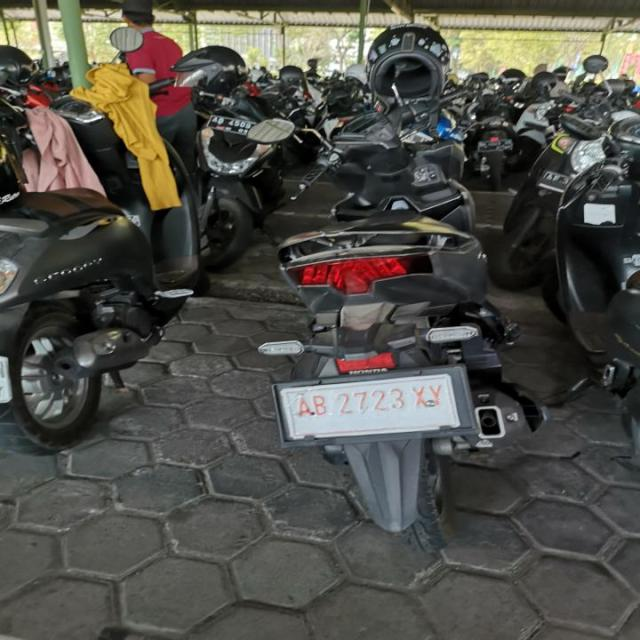License Plate: (273, 363, 475, 443), (206, 113, 260, 136)
